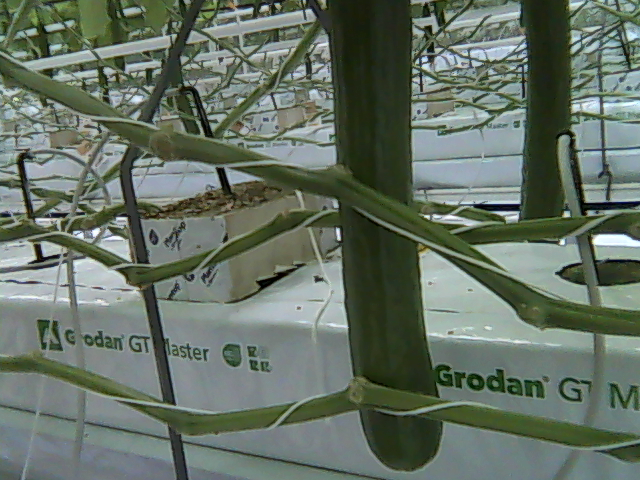concombre: (323, 1, 447, 475)
